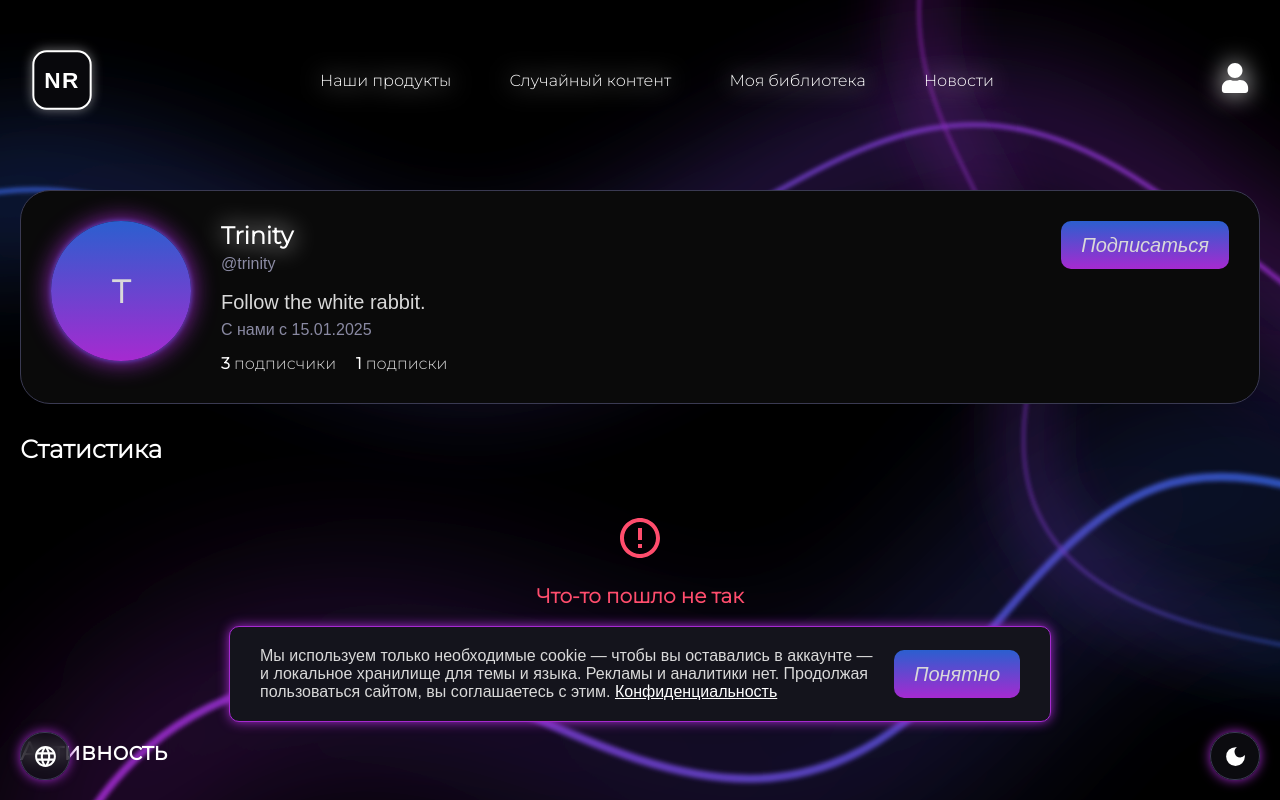
Scenario: Follows › sends a guest who wants to follow to the login page
The image size is (1280, 800).
Click the button "Подписаться" at (1145, 245), box [1061,221,1229,269]
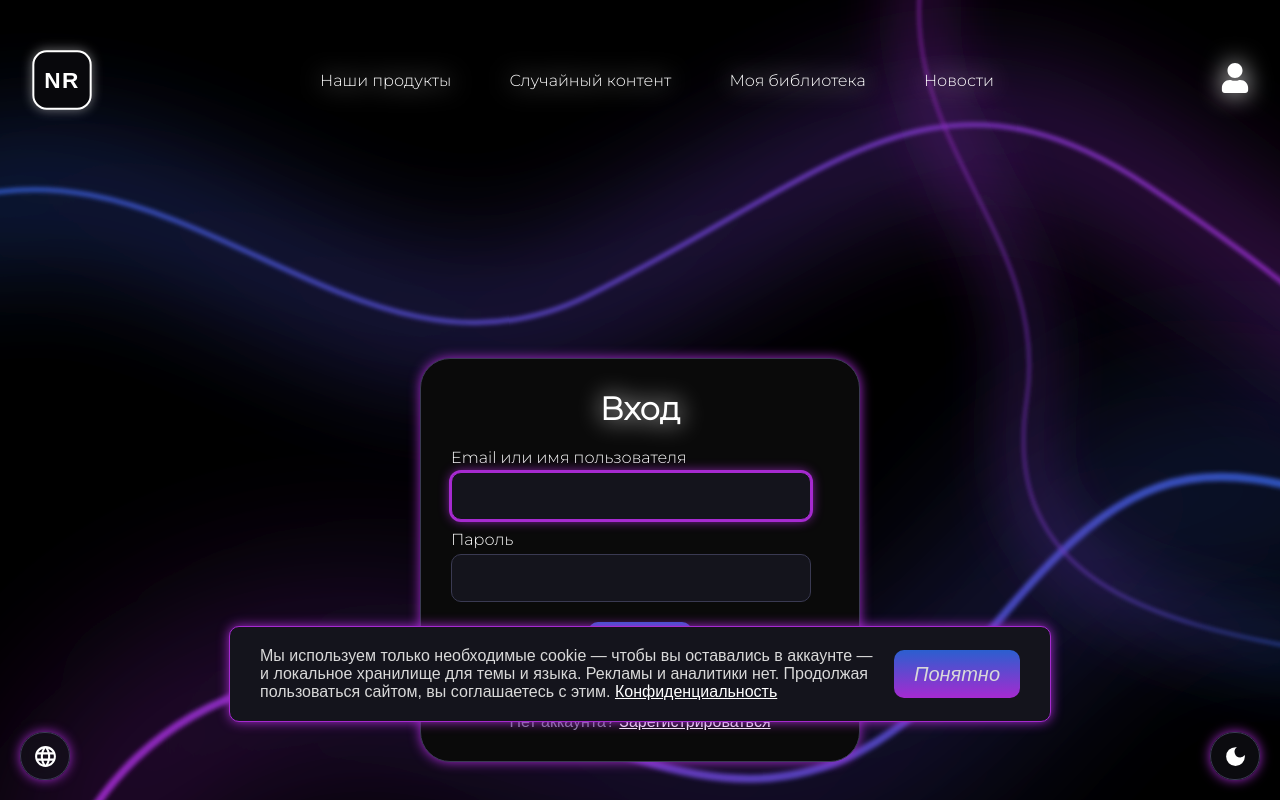
Now the heading "Вход" is shown, box [600,389,680,428]
